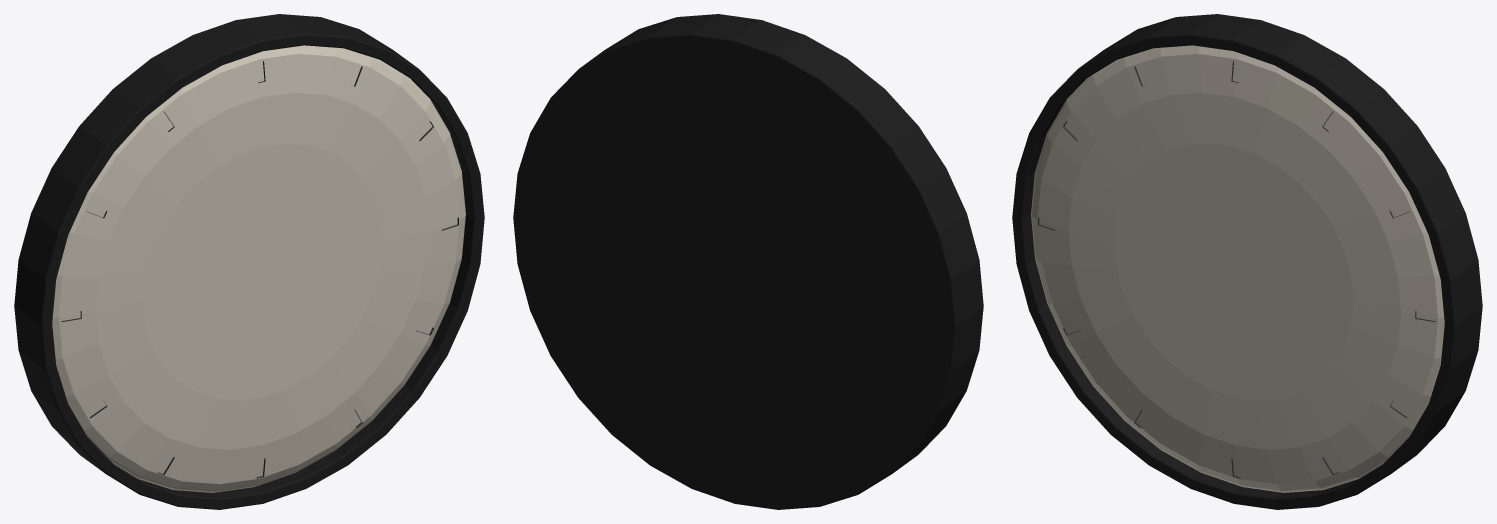
Rendered from clock.glb.
3 renders of one model, left to right at view 1: azimuth 30°, elevation 25°; view 2: azimuth 150°, elevation 25°; view 3: azimuth 330°, elevation 25°, orthographic.
Parts seen in each view (by area): view 1: clock; view 2: clock; view 3: clock.
Boxes of the visible parts, x1,y1,x2,y2 form: clock: (14, 14, 484, 509); clock: (513, 14, 983, 509); clock: (1012, 14, 1482, 509).
Size of the model in its own units: 0.7949 by 0.7949 by 0.0876.
